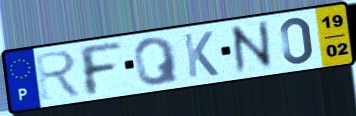0: (279, 16, 315, 66)
F: (75, 41, 125, 98)
K: (181, 29, 221, 80)
N: (227, 18, 278, 77)
Q: (132, 35, 182, 88)
R: (33, 48, 85, 102)
